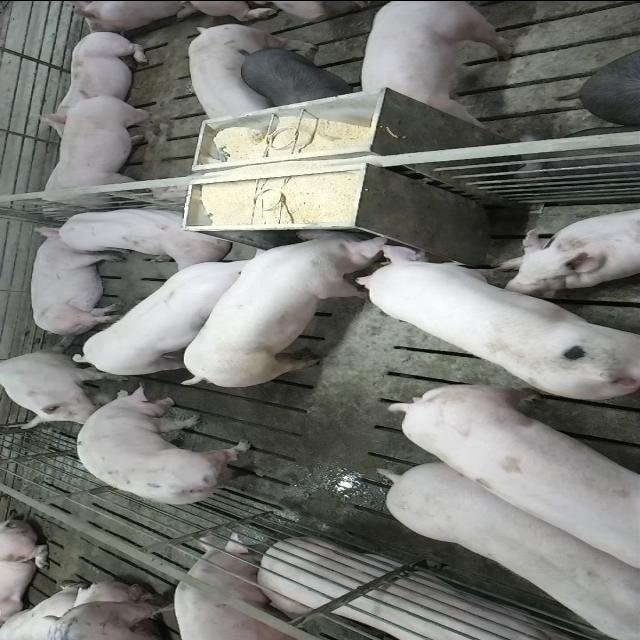Feeding: (350, 232, 634, 398), (175, 222, 408, 384)
Lateral_lying: (255, 539, 618, 640), (28, 225, 128, 336)
Sitting: (1, 346, 120, 424)
Standing: (383, 385, 640, 581), (381, 464, 640, 640), (70, 247, 288, 379), (76, 388, 276, 509), (360, 2, 514, 134), (36, 91, 182, 217), (172, 534, 308, 640), (185, 24, 281, 130), (238, 47, 356, 109)
Sternal_lying: (32, 29, 156, 130), (498, 203, 640, 290), (48, 202, 232, 264)
